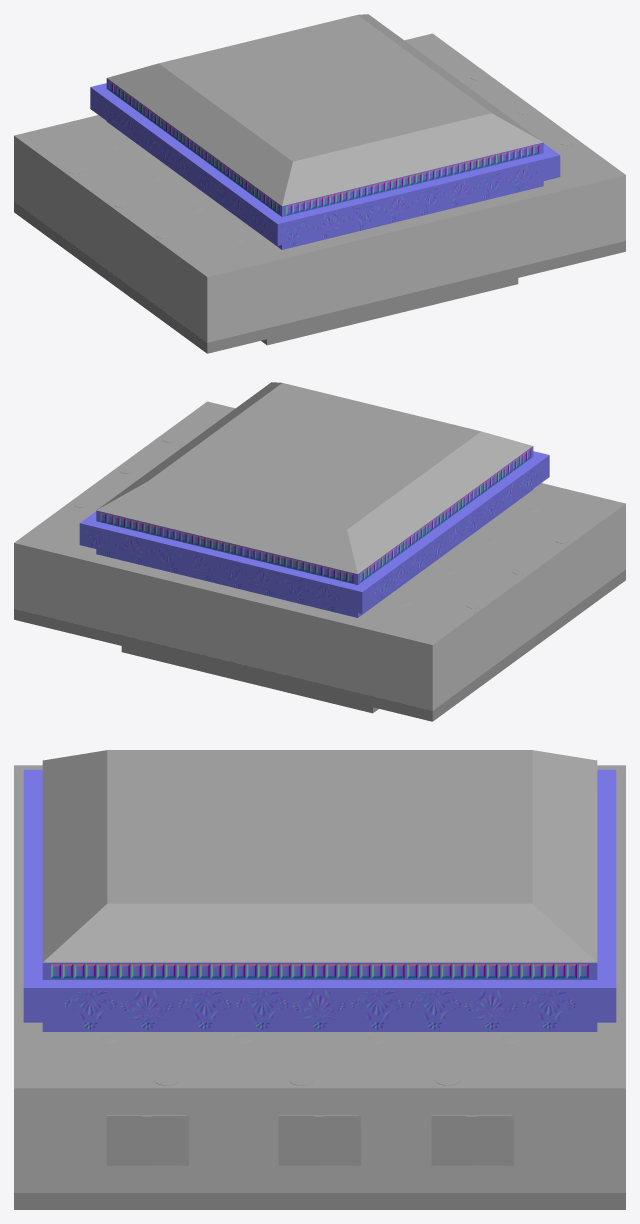
File: gallerybetatest.fbx
The picture shows the model from 3 angles, top to bottom: view 1: azimuth 30°, elevation 25°; view 2: azimuth 150°, elevation 25°; view 3: azimuth 270°, elevation 25°; orthographic projection. The views are drawn at different scales.
Parts seen in each view (by area): view 1: pasted__polySurface19, pasted__pPlane64, floor1, pasted__pPlane59, pasted__pPlane58, pasted__pPlane57, pasted__wall91, pasted__wall92, pasted__wall95, pasted__wall93, pasted__wall94, pasted__wall90 (+18 smaller); view 2: pasted__polySurface19, polySurface22, floor1, pasted__pPlane59, pasted__pPlane58, pasted__wall96, pasted__pPlane57, pasted__wall81, pasted__wall82, pasted__wall83, pasted__wall85, pasted__wall84 (+17 smaller); view 3: pasted__polySurface19, pasted__pPlane62, pasted__pPlane60, planemidfront_low13, planemidfront_low11, planemidfront_low12, floor1, pasted__wall88, pasted__wall87, pasted__pPlane61, pasted__wall86, pasted__wall89 (+13 smaller).
Boxes of the visible parts, bbox=[...] form: pasted__polySurface19: bbox=[107, 14, 543, 205]; pasted__pPlane64: bbox=[292, 145, 539, 247]; floor1: bbox=[14, 201, 625, 353]; pasted__pPlane59: bbox=[14, 115, 166, 186]; pasted__pPlane58: bbox=[84, 166, 230, 232]; pasted__pPlane57: bbox=[147, 212, 290, 276]; pasted__wall91: bbox=[479, 195, 542, 276]; pasted__wall92: bbox=[416, 211, 479, 291]; pasted__wall95: bbox=[228, 257, 290, 337]; pasted__wall93: bbox=[354, 226, 416, 306]; pasted__wall94: bbox=[291, 241, 353, 322]; pasted__wall90: bbox=[542, 180, 604, 260]; pasted__polySurface19: bbox=[96, 382, 532, 573]; polySurface22: bbox=[100, 513, 347, 615]; floor1: bbox=[14, 569, 625, 721]; pasted__pPlane59: bbox=[349, 574, 501, 644]; pasted__pPlane58: bbox=[418, 527, 565, 593]; pasted__wall96: bbox=[380, 628, 456, 710]; pasted__pPlane57: bbox=[482, 483, 625, 547]; pasted__wall81: bbox=[317, 617, 380, 697]; pasted__wall82: bbox=[254, 602, 317, 682]; pasted__wall83: bbox=[192, 586, 254, 667]; pasted__wall85: bbox=[66, 556, 128, 636]; pasted__wall84: bbox=[129, 571, 191, 651]; pasted__polySurface19: bbox=[42, 750, 597, 962]; pasted__pPlane62: bbox=[14, 1032, 233, 1088]; pasted__pPlane60: bbox=[406, 1032, 625, 1088]; planemidfront_low13: bbox=[61, 962, 233, 1031]; planemidfront_low11: bbox=[406, 962, 578, 1031]; planemidfront_low12: bbox=[234, 962, 405, 1031]; floor1: bbox=[14, 1192, 625, 1209]; pasted__wall88: bbox=[205, 1088, 319, 1192]; pasted__wall87: bbox=[320, 1088, 434, 1192]; pasted__pPlane61: bbox=[234, 1032, 405, 1088]; pasted__wall86: bbox=[434, 1088, 549, 1192]; pasted__wall89: bbox=[90, 1088, 205, 1192].
Bounding box in the file's own units: 20.02 × 7.85 × 16.
